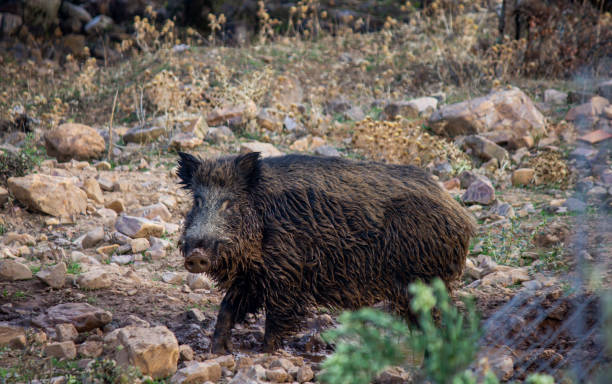pig: (175, 149, 470, 339)
